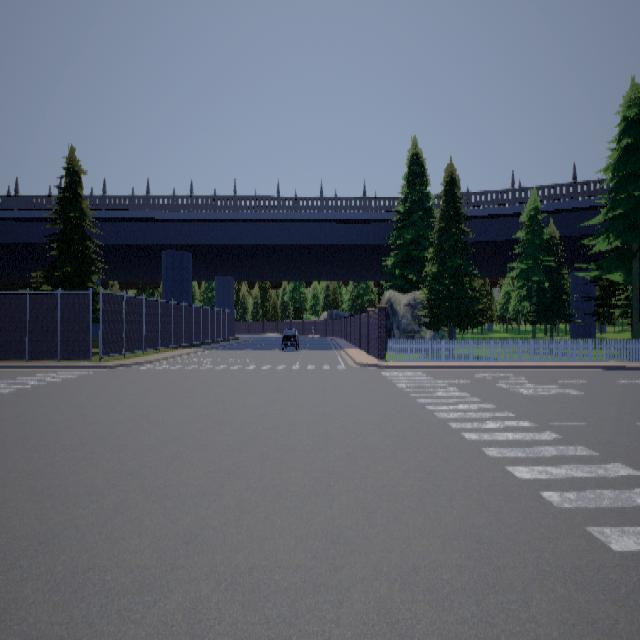vehicle: (279, 322, 300, 350)
